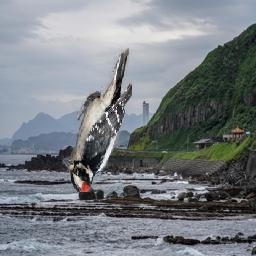Woodpecker: (62, 46, 133, 192)
